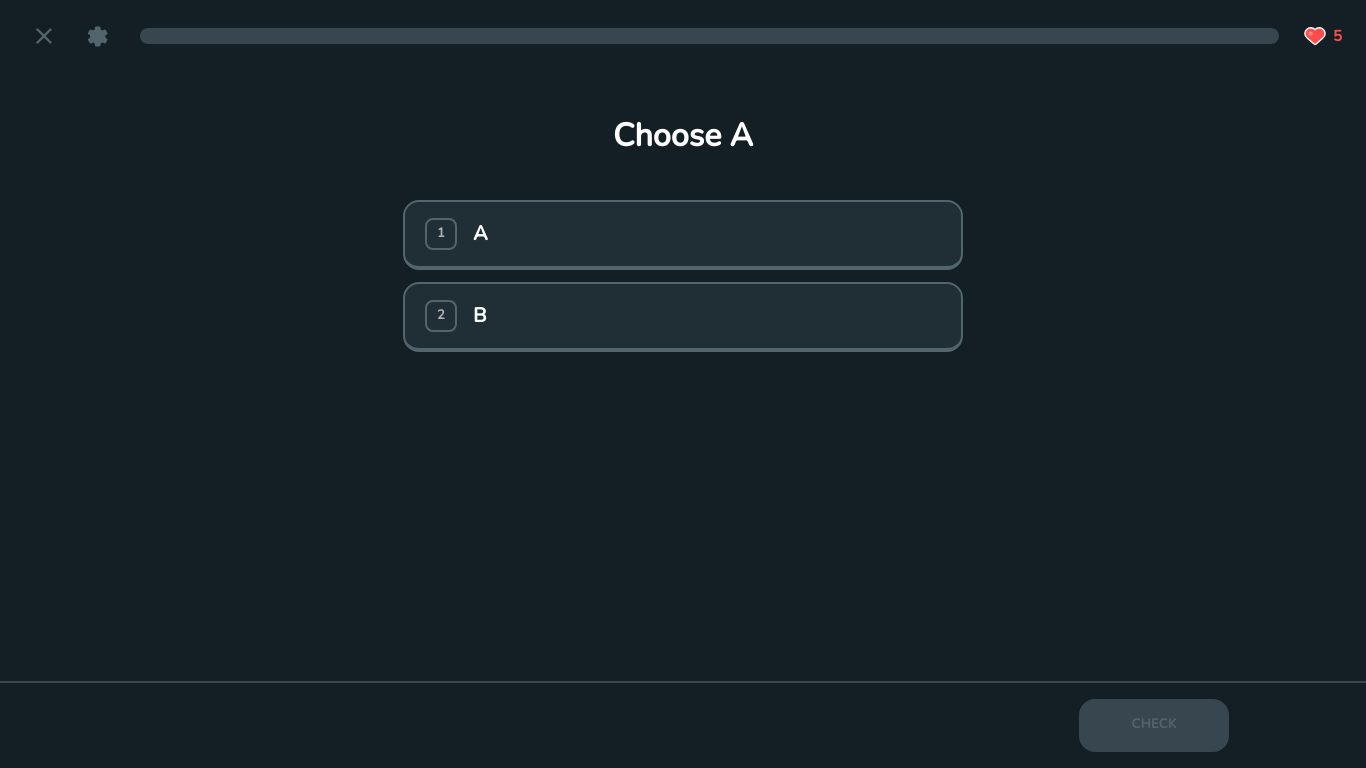
Test: ApiLessonPlayer lesson flow › submits the final answer and completes the lesson
Expected: the heading "Choose A" is shown, [613,112,753,160]
Click the text "A".
click(480, 234)  # box [473,219,488,249]
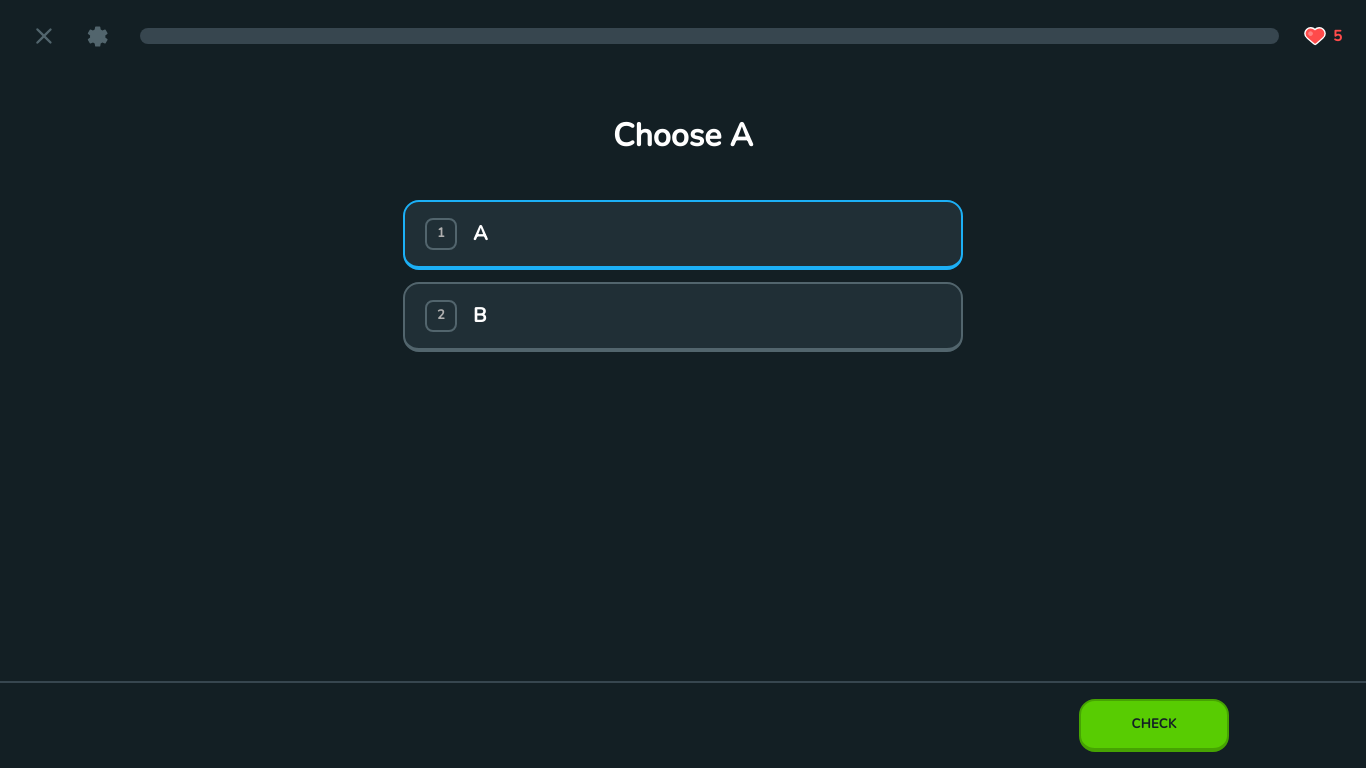
Click the button "Check".
click(1154, 725)  # box [1079,698,1229,752]
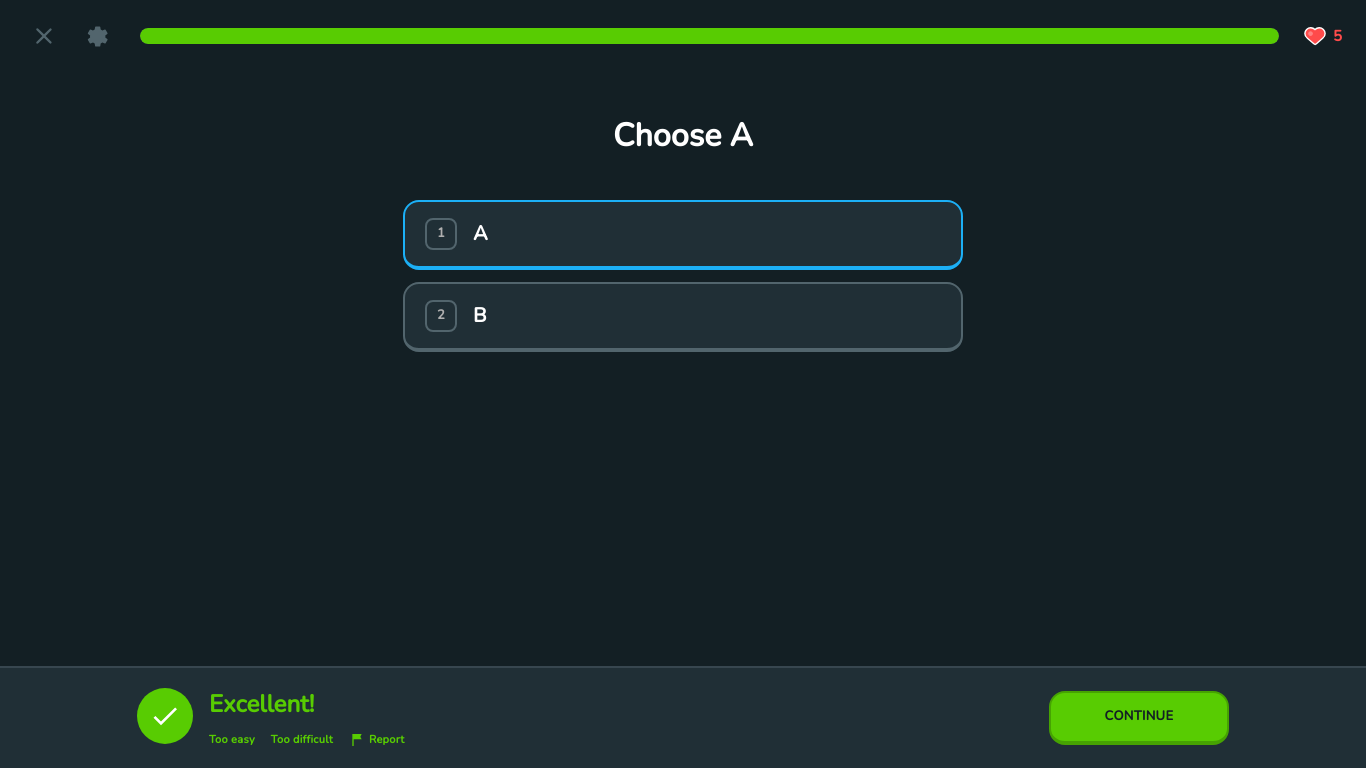
Click the button "Continue".
click(1139, 718)  # box [1049,691,1229,744]
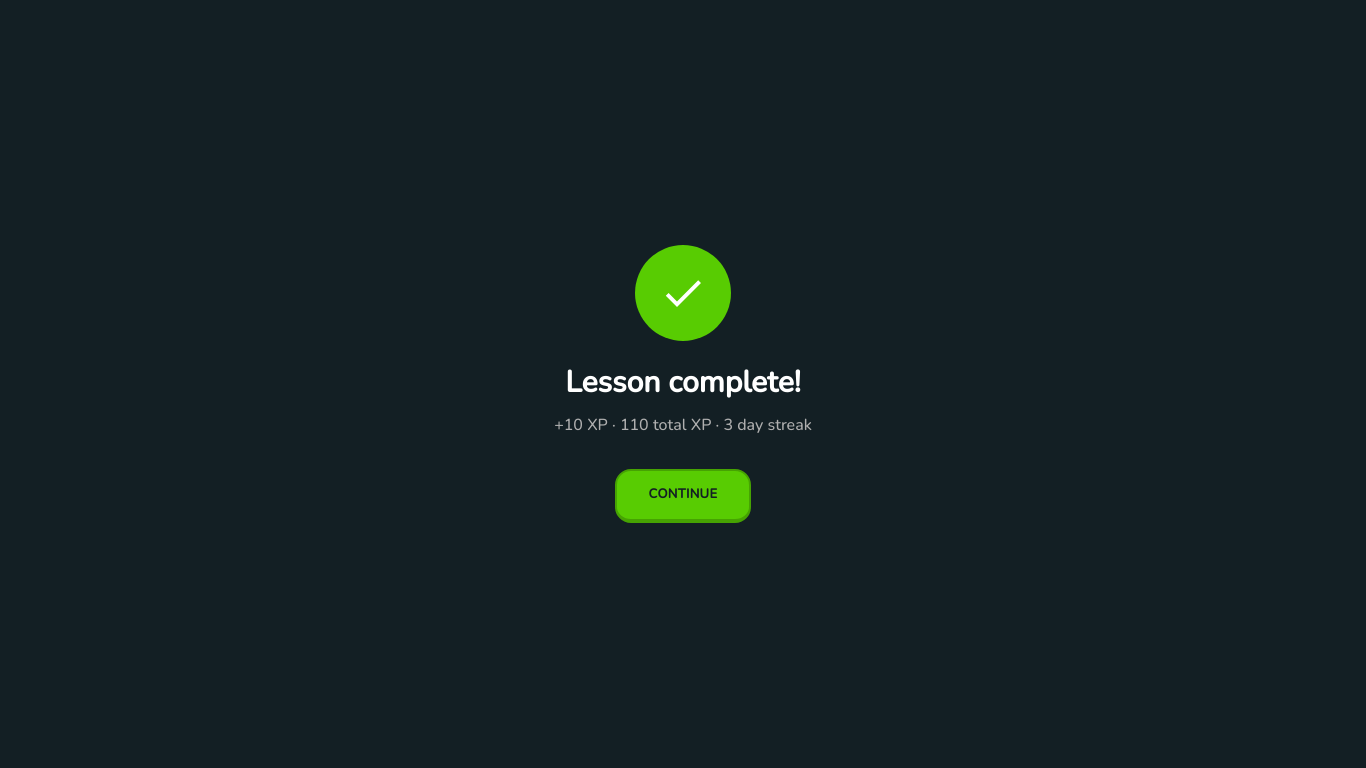
Now the heading "Lesson complete!" is shown, box [554,365,812,401]
Now the text "+10 XP · 110 total XP · 3 day streak" is shown, box [554,413,812,437]
